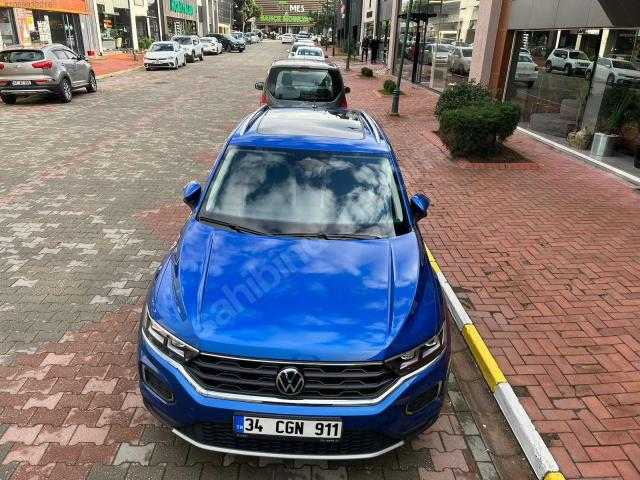plaka: (235, 416, 342, 438), (11, 80, 31, 85)
